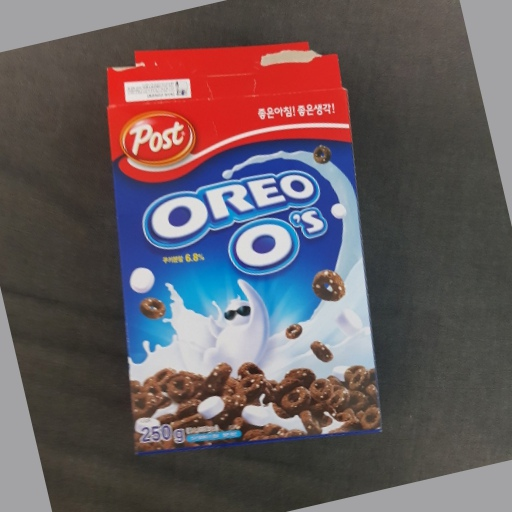Paper_0: (100, 41, 393, 459)
